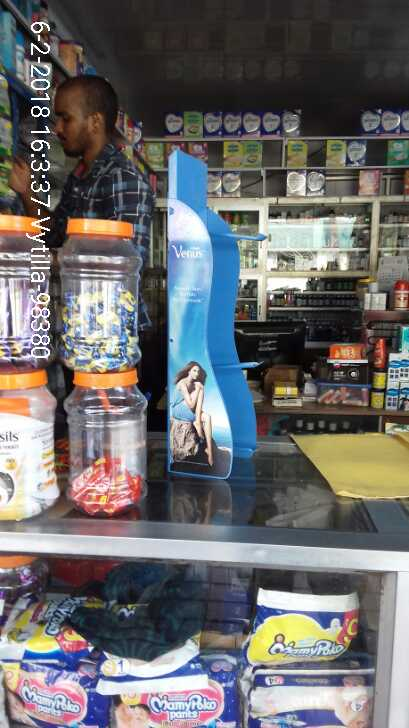reject: (164, 175, 226, 248)
